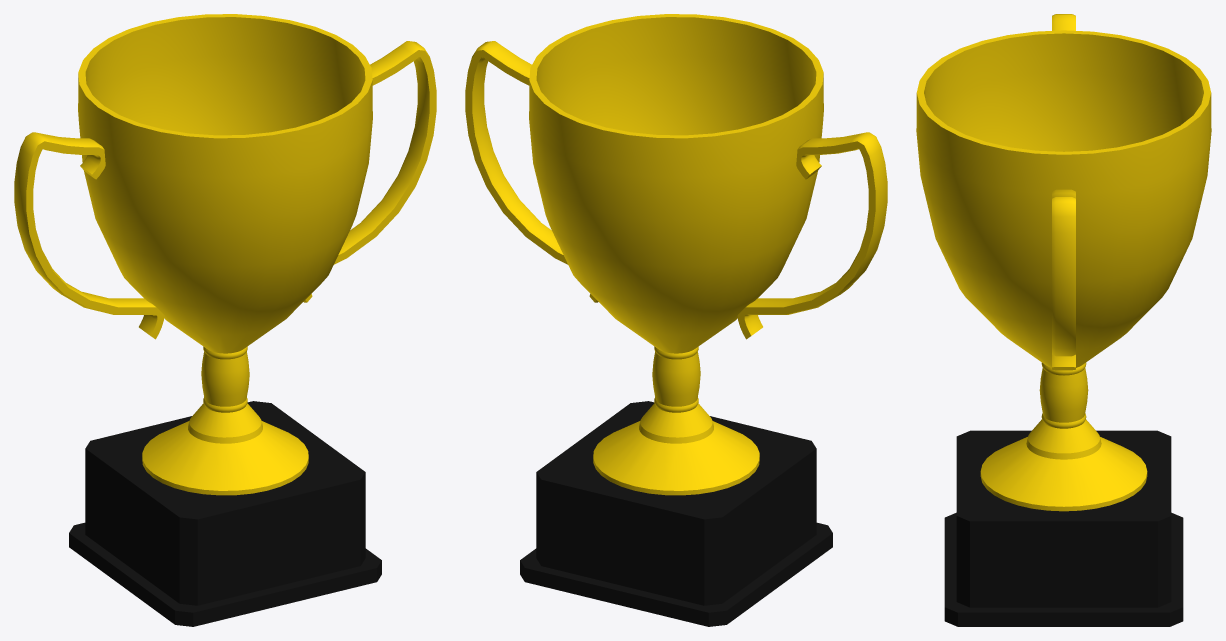
File: trophy.fbx
3 renders of one model, left to right at view 1: azimuth 30°, elevation 25°; view 2: azimuth 150°, elevation 25°; view 3: azimuth 270°, elevation 25°, orthographic.
Parts seen in each view (by area): view 1: trophy; view 2: trophy; view 3: trophy.
Boxes of the visible parts, x1,y1,x2,y2 form: trophy: (14, 14, 436, 626); trophy: (465, 14, 887, 626); trophy: (916, 14, 1211, 626).
Size of the model in its own units: 48.45 by 54.3 by 30.
